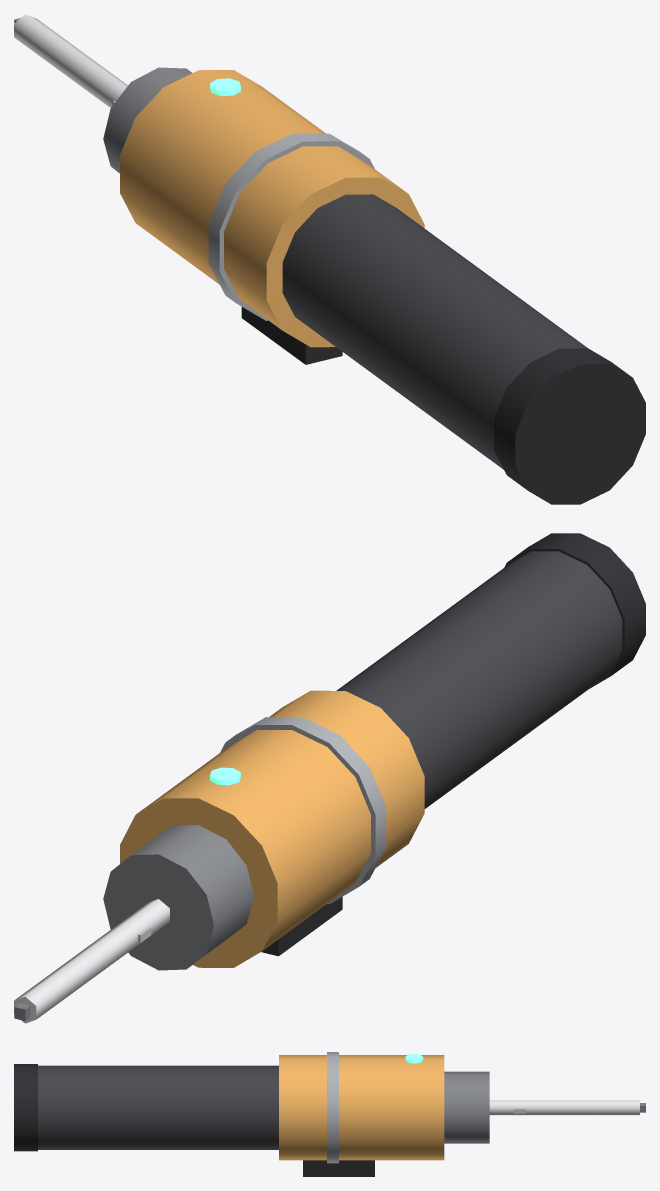
Rendered from tool-driver.glb.
3 renders of one model, top to bottom at view 1: azimuth 30°, elevation 25°; view 2: azimuth 150°, elevation 25°; view 3: azimuth 270°, elevation 25°, orthographic. The views are drawn at different scales.
Visible parts, largest first — view 1: body, bit; view 2: body, bit; view 3: body, bit.
Part boxes in pixels (x1,y1,x2,y2): body: (103, 67, 645, 504); bit: (14, 14, 127, 107); body: (103, 533, 645, 970); bit: (14, 899, 169, 1023); body: (14, 1052, 489, 1176); bit: (489, 1100, 645, 1115).
Bounding box in the file's own units: 0.0361 × 0.042 × 0.21.
